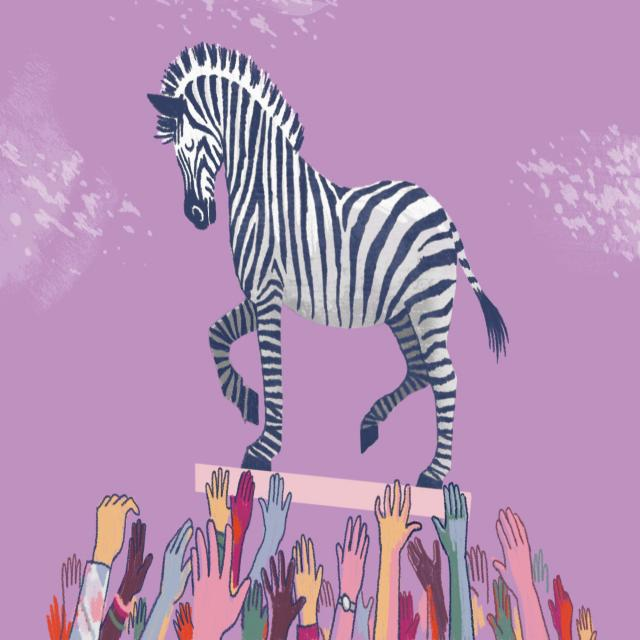zebra: (148, 43, 508, 487)
